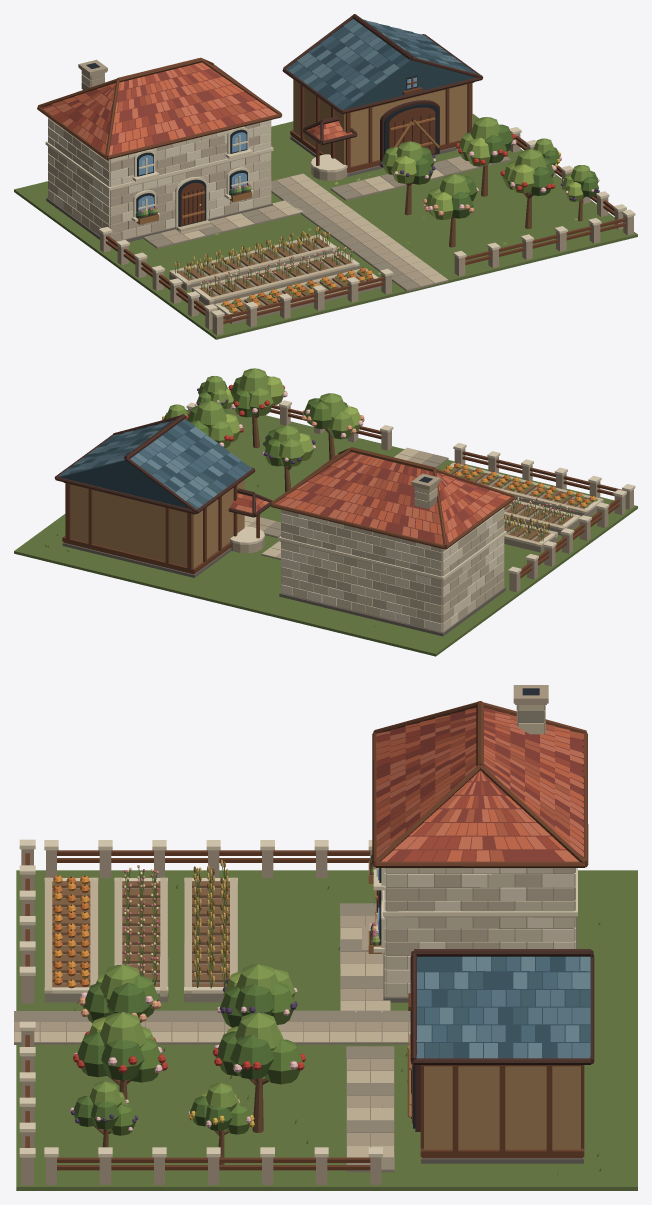
The model's file is farm-nivel-7.glb.
The picture shows the model from 3 angles, top to bottom: view 1: azimuth 30°, elevation 25°; view 2: azimuth 150°, elevation 25°; view 3: azimuth 270°, elevation 25°; orthographic projection. The views are drawn at different scales.
Parts seen in each view (by area): view 1: Fazenda 07 #677a42, Fazenda 07 #70432c, Fazenda 07 #b4a38a, Fazenda 07 #9b8f7c, Fazenda 07 #cebea0, Fazenda 07 #c0b198, Fazenda 07 #e6d7ba, Fazenda 07 #853e33, Fazenda 07 #a98258, Fazenda 07 #e6d8be, Fazenda 07 #344d58, Fazenda 07 #d5c7aa (+22 smaller); view 2: Fazenda 07 #677a42, Fazenda 07 #a98258, Fazenda 07 #70432c, Fazenda 07 #c0b198, Fazenda 07 #d5c7aa, Fazenda 07 #e6d8be, Fazenda 07 #853e33, Fazenda 07 #7a9448, Fazenda 07 #344d58, Fazenda 07 #b4a38a, Fazenda 07 #e6d7ba, Fazenda 07 #c06b4f (+19 smaller); view 3: Fazenda 07 #677a42, Fazenda 07 #70432c, Fazenda 07 #b4a38a, Fazenda 07 #a98258, Fazenda 07 #cebea0, Fazenda 07 #853e33, Fazenda 07 #9b8f7c, Fazenda 07 #567337, Fazenda 07 #886345, Fazenda 07 #e6d7ba, Fazenda 07 #bf6243, Fazenda 07 #c06b4f (+20 smaller).
Boxes of the visible parts, x1,y1,x2,y2 form: Fazenda 07 #677a42: [14, 114, 637, 339]; Fazenda 07 #70432c: [37, 57, 625, 323]; Fazenda 07 #b4a38a: [47, 59, 633, 335]; Fazenda 07 #9b8f7c: [81, 76, 510, 324]; Fazenda 07 #cebea0: [81, 73, 493, 318]; Fazenda 07 #c0b198: [48, 117, 271, 241]; Fazenda 07 #e6d7ba: [45, 127, 635, 318]; Fazenda 07 #853e33: [41, 63, 343, 154]; Fazenda 07 #a98258: [293, 79, 472, 166]; Fazenda 07 #e6d8be: [48, 118, 271, 228]; Fazenda 07 #344d58: [290, 21, 475, 109]; Fazenda 07 #d5c7aa: [48, 120, 271, 239]; Fazenda 07 #677a42: [14, 408, 637, 656]; Fazenda 07 #a98258: [65, 479, 244, 568]; Fazenda 07 #70432c: [62, 405, 622, 578]; Fazenda 07 #c0b198: [281, 509, 504, 627]; Fazenda 07 #d5c7aa: [281, 507, 504, 631]; Fazenda 07 #e6d8be: [281, 512, 504, 632]; Fazenda 07 #853e33: [230, 452, 506, 543]; Fazenda 07 #7a9448: [66, 368, 377, 627]; Fazenda 07 #344d58: [59, 420, 246, 508]; Fazenda 07 #b4a38a: [64, 405, 633, 632]; Fazenda 07 #e6d7ba: [186, 400, 635, 580]; Fazenda 07 #c06b4f: [235, 454, 500, 542]; Fazenda 07 #677a42: [16, 870, 637, 1190]; Fazenda 07 #70432c: [25, 701, 588, 1170]; Fazenda 07 #b4a38a: [14, 685, 582, 1185]; Fazenda 07 #a98258: [424, 1066, 580, 1149]; Fazenda 07 #cebea0: [14, 705, 545, 1157]; Fazenda 07 #853e33: [376, 707, 583, 861]; Fazenda 07 #9b8f7c: [14, 711, 543, 1172]; Fazenda 07 #567337: [73, 982, 274, 1130]; Fazenda 07 #886345: [52, 881, 229, 987]; Fazenda 07 #e6d7ba: [19, 839, 577, 1157]; Fazenda 07 #bf6243: [376, 708, 583, 861]; Fazenda 07 #c06b4f: [376, 713, 583, 861].
Bounding box in the file's own units: 17.81 × 5.67 × 14.84.
